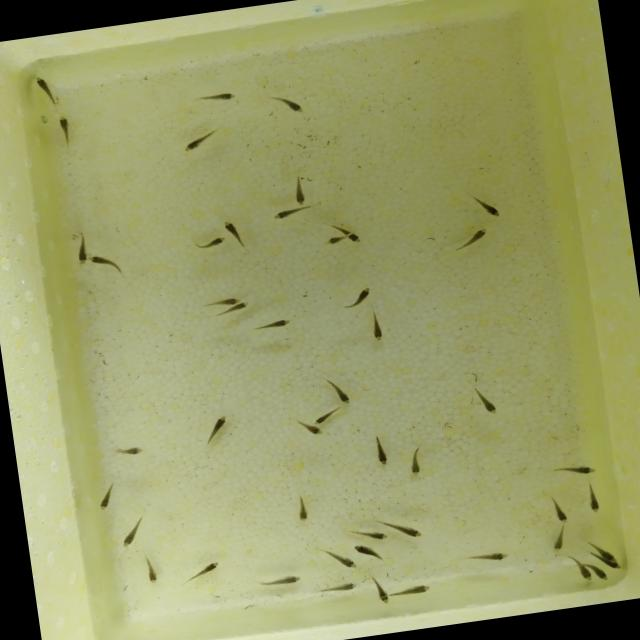fingerling: (112, 512, 156, 552), (460, 187, 506, 224), (176, 125, 226, 156), (178, 558, 228, 586), (465, 544, 520, 569), (199, 411, 236, 448), (552, 457, 604, 482), (270, 90, 310, 122), (339, 285, 382, 312), (448, 227, 492, 253), (343, 524, 394, 546), (192, 88, 245, 109), (324, 371, 354, 408), (472, 385, 504, 419), (365, 433, 395, 469), (34, 72, 61, 112), (316, 578, 364, 600), (53, 112, 79, 152), (90, 251, 124, 281), (250, 316, 300, 336), (256, 571, 308, 590), (403, 442, 429, 478), (268, 204, 320, 222), (138, 554, 165, 588), (545, 493, 572, 526), (364, 311, 390, 344), (582, 479, 604, 516), (222, 217, 252, 244), (94, 483, 120, 513), (396, 580, 436, 599), (546, 525, 573, 553), (591, 538, 617, 566), (287, 174, 309, 207), (66, 236, 90, 266), (370, 574, 392, 606), (396, 520, 428, 542), (291, 494, 313, 526), (205, 292, 248, 308), (310, 406, 344, 426), (352, 539, 384, 560), (213, 302, 254, 318), (192, 236, 228, 254), (112, 443, 148, 460), (332, 554, 362, 574), (303, 424, 330, 441), (318, 234, 344, 249), (345, 229, 369, 245), (574, 566, 594, 584), (592, 565, 610, 583)
